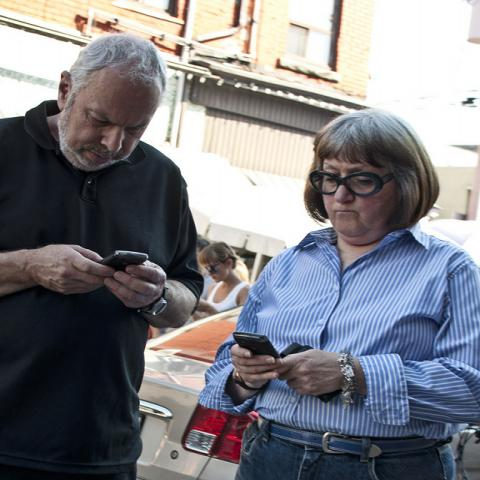car: (136, 304, 479, 473)
